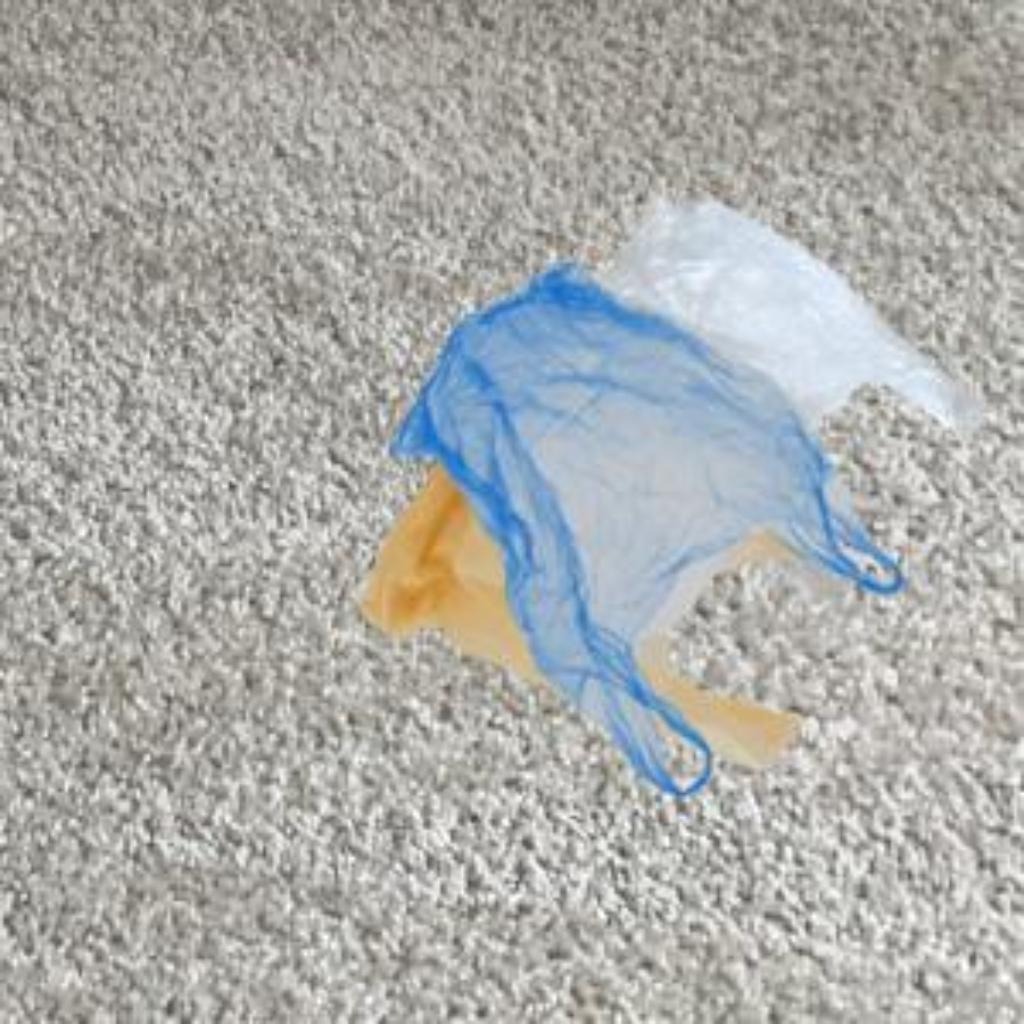garbage: (398, 230, 899, 811), (304, 478, 826, 799), (613, 150, 988, 509)
